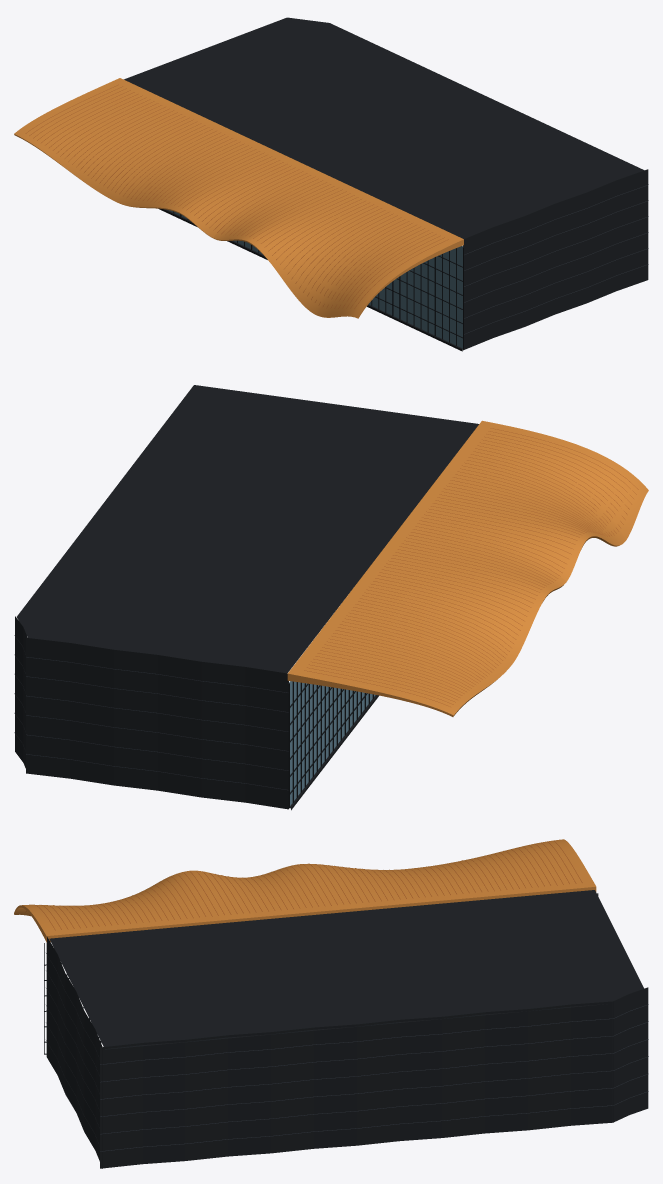
Rendered from kilden-performing-arts-centre-near.glb.
3 views of the same model, one above another, from view 1: azimuth 30°, elevation 25°; view 2: azimuth 150°, elevation 25°; view 3: azimuth 270°, elevation 25° (orthographic). The views are drawn at different scales.
Parts seen in each view (by area): view 1: kilden-performing-arts-centre-0-metal, kilden-performing-arts-centre-0-oak, kilden-performing-arts-centre-0-oakLine, kilden-performing-arts-centre-0-glow, kilden-performing-arts-centre-0-frame, kilden-performing-arts-centre-0-seam; view 2: kilden-performing-arts-centre-0-metal, kilden-performing-arts-centre-0-oak, kilden-performing-arts-centre-0-oakLine, kilden-performing-arts-centre-0-glow, kilden-performing-arts-centre-0-frame, kilden-performing-arts-centre-0-seam; view 3: kilden-performing-arts-centre-0-metal, kilden-performing-arts-centre-0-oak, kilden-performing-arts-centre-0-seam, kilden-performing-arts-centre-0-oakLine.
Boxes of the visible parts, box(x1,y1,x2,y2) form: kilden-performing-arts-centre-0-metal: box(124, 17, 648, 351); kilden-performing-arts-centre-0-oak: box(14, 78, 463, 318); kilden-performing-arts-centre-0-oakLine: box(25, 84, 448, 308); kilden-performing-arts-centre-0-glow: box(168, 210, 463, 348); kilden-performing-arts-centre-0-frame: box(166, 209, 463, 349); kilden-performing-arts-centre-0-seam: box(464, 184, 648, 334); kilden-performing-arts-centre-0-metal: box(15, 385, 478, 810); kilden-performing-arts-centre-0-oak: box(287, 420, 648, 716); kilden-performing-arts-centre-0-oakLine: box(304, 428, 638, 706); kilden-performing-arts-centre-0-glow: box(289, 681, 375, 805); kilden-performing-arts-centre-0-frame: box(288, 681, 373, 808); kilden-performing-arts-centre-0-seam: box(14, 635, 288, 790); kilden-performing-arts-centre-0-metal: box(44, 890, 648, 1168); kilden-performing-arts-centre-0-oak: box(14, 839, 596, 942); kilden-performing-arts-centre-0-seam: box(46, 953, 648, 1151); kilden-performing-arts-centre-0-oakLine: box(25, 841, 582, 930).
Bounding box in the file's own units: 87.99 × 22 × 104.
